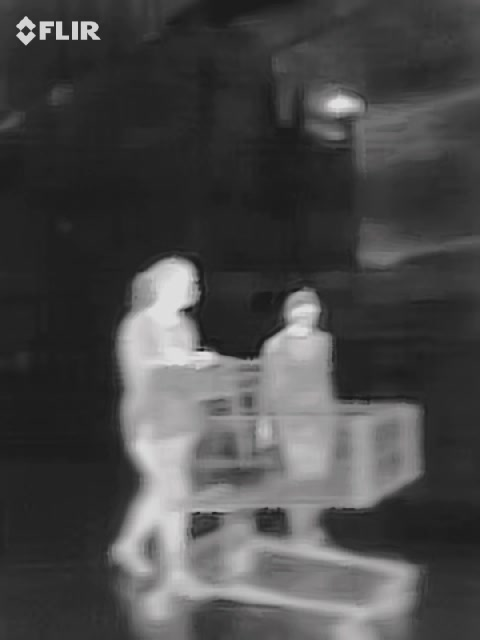head: (148, 258, 199, 312), (287, 289, 320, 334)
